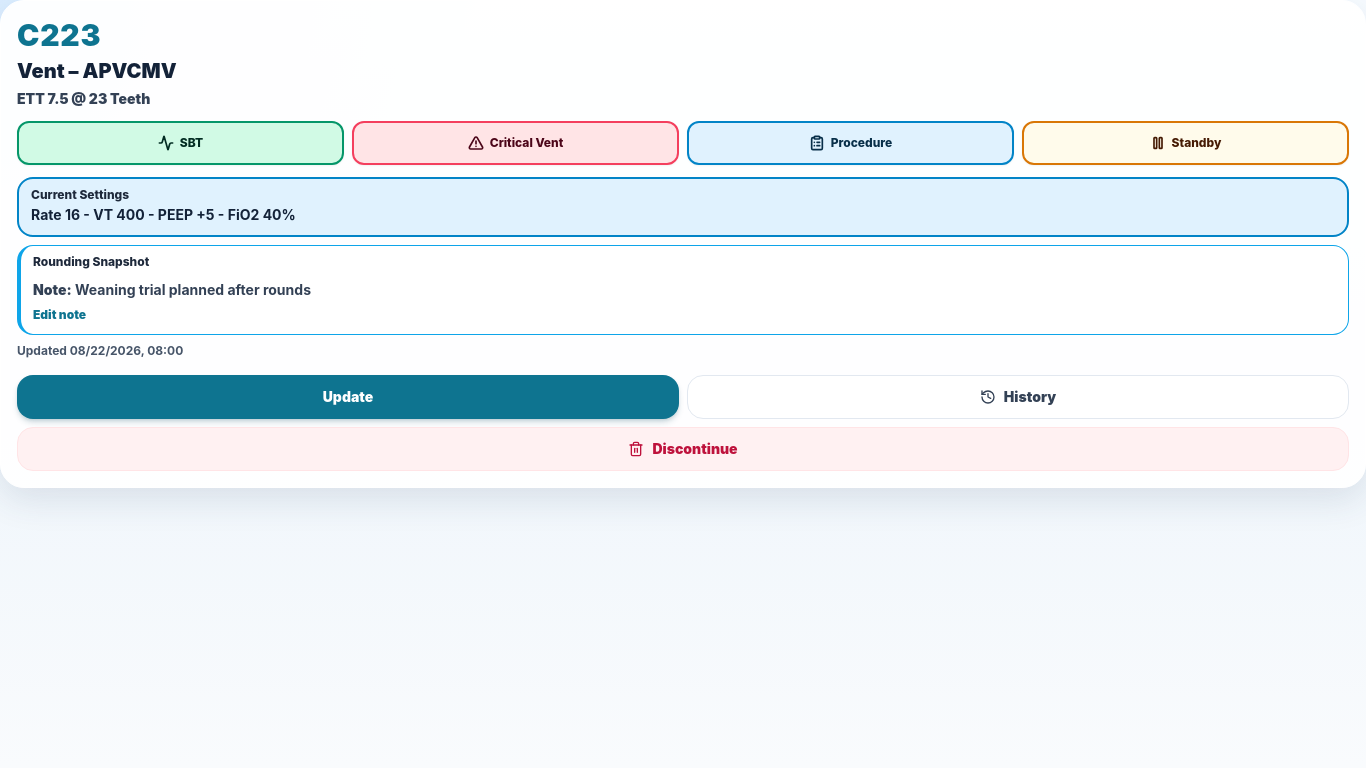
Scenario: IcuPatientCard Vent actions › shows a saved note compactly, then prepopulates and saves an edit
The width and height of the screenshot is (1366, 768).
Expected: the text "Note:" is shown, [33, 281, 72, 298]
Expected: the field labelled "Notes" is not shown
Click the button "Edit note". click: (60, 315)
box: [33, 307, 86, 323]
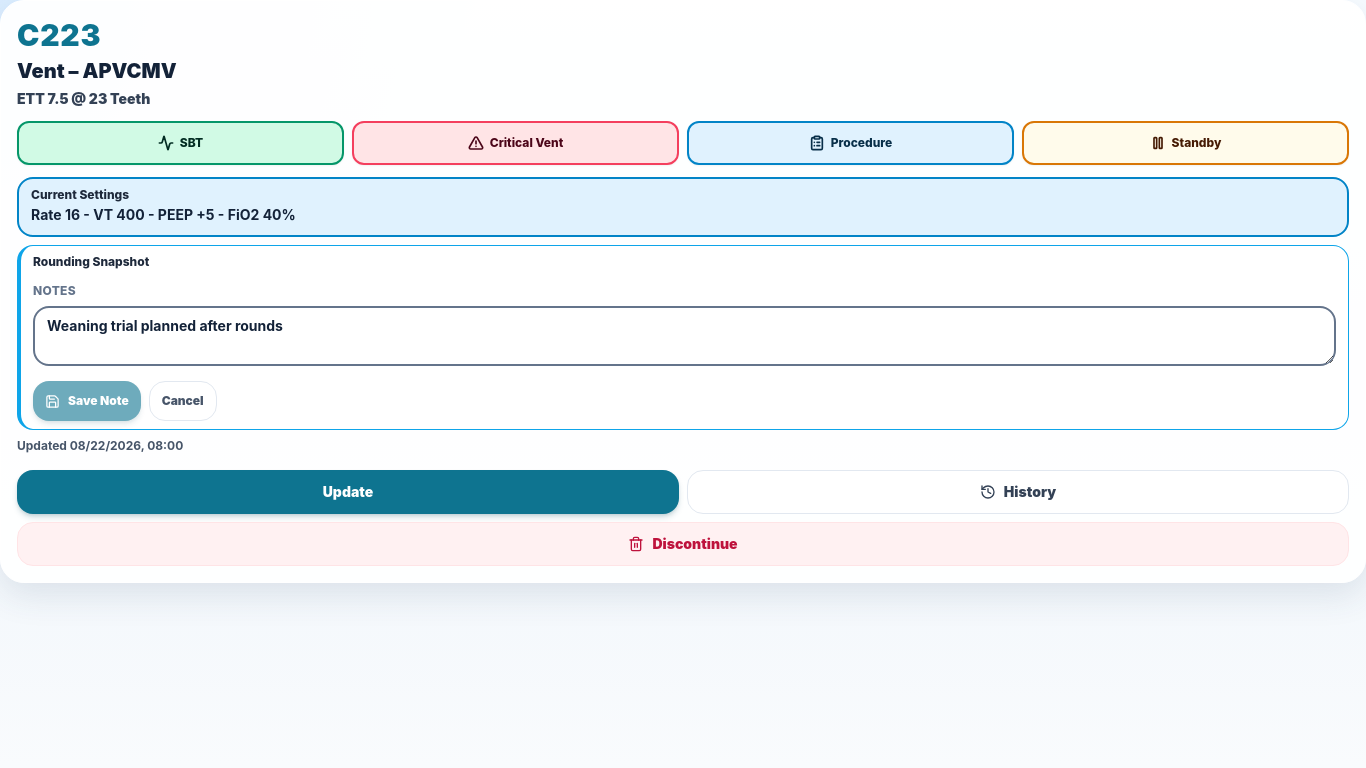
Expected: the text box labelled "Notes" holds "Weaning trial planned after rounds"
Expected: the button "Save Note" is disabled, [33, 381, 141, 421]
Replace the text in the text box labelled "Notes" with "Weaning trial after rounds". click: (684, 336)
box: [33, 306, 1336, 366]
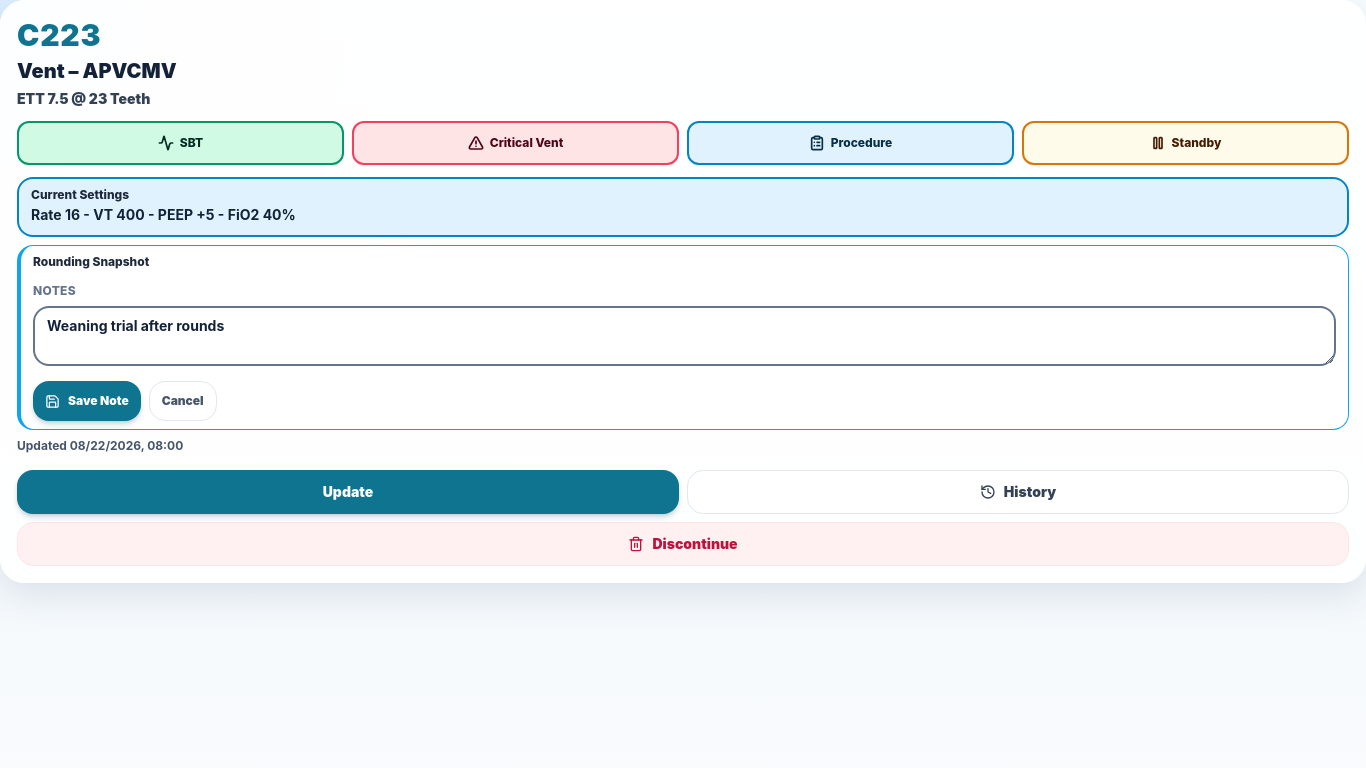
Click the button "Save Note". click: (87, 401)
box: [33, 381, 141, 421]
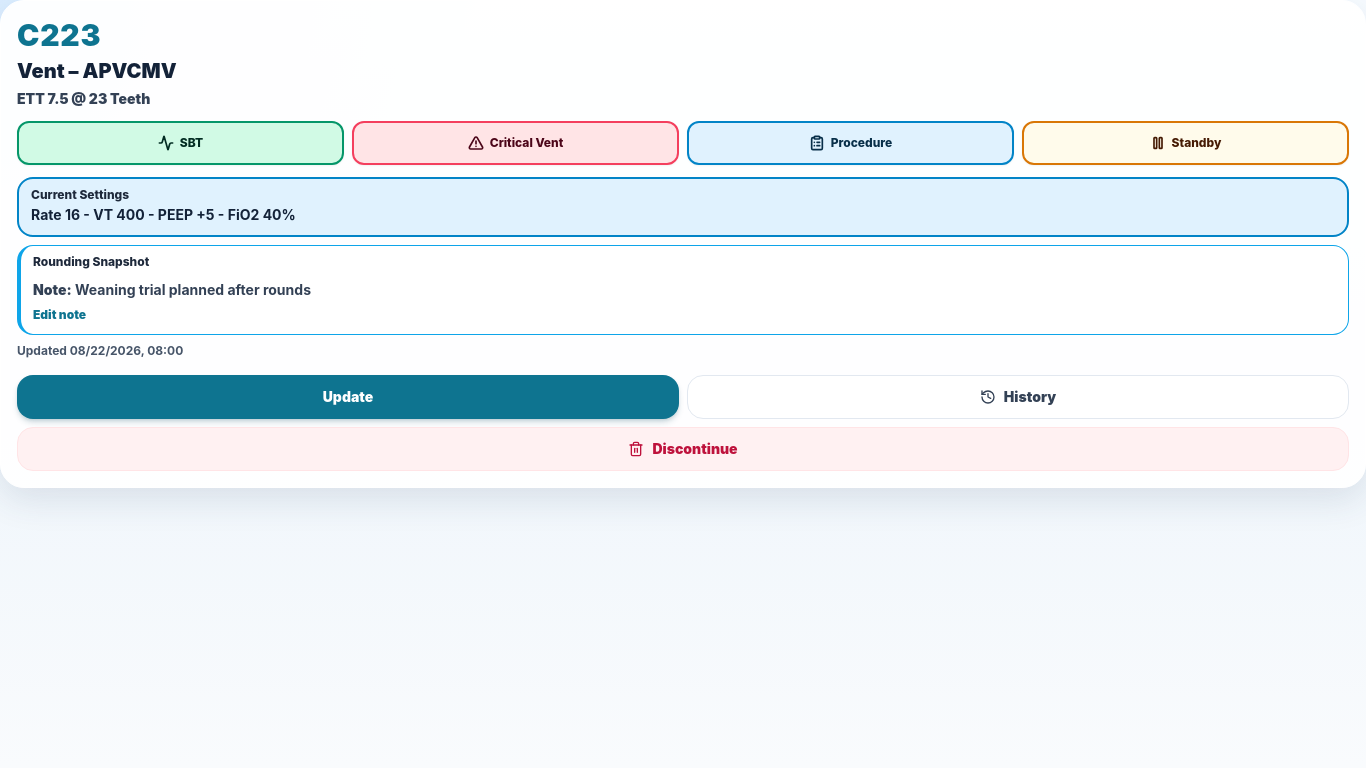
Expected: the text labelled "Notes" is gone
